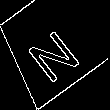N_NW: (13, 16, 78, 80)
